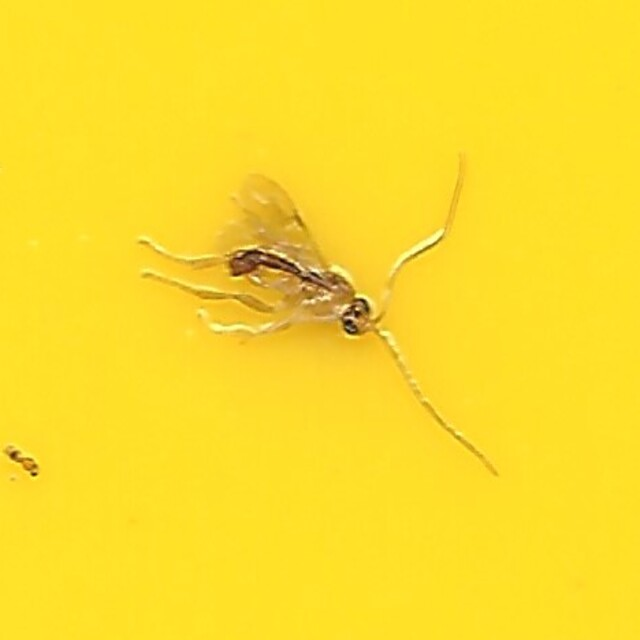Hymenoptera: (137, 160, 503, 480)
